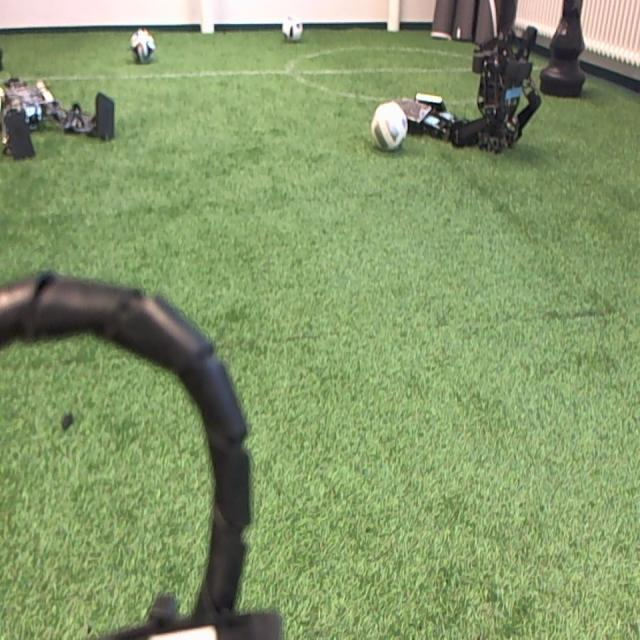ball: (371, 100, 408, 150), (128, 27, 155, 65), (282, 13, 302, 43)
goalpost: (384, 2, 401, 31), (199, 2, 213, 34)
